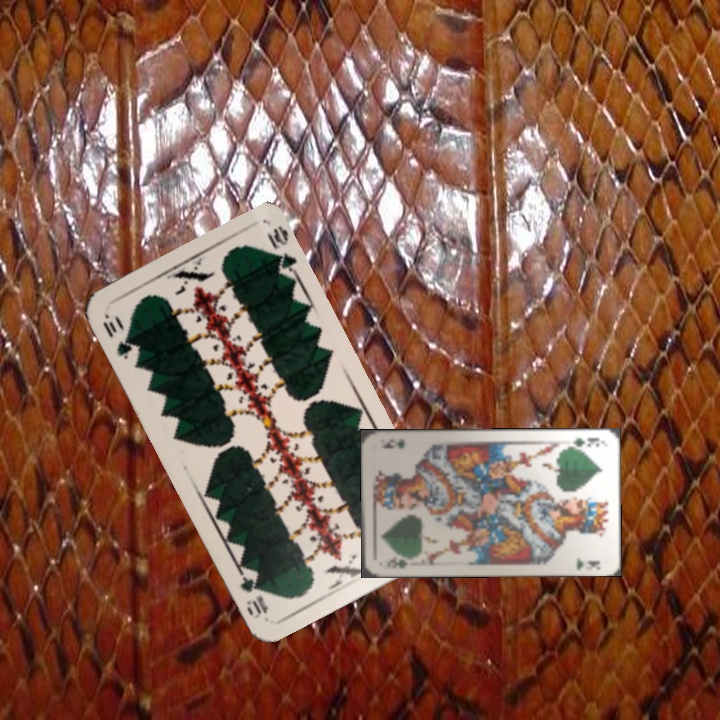G10: (98, 309, 136, 363)
GK: (564, 433, 602, 451), (382, 553, 410, 572)
